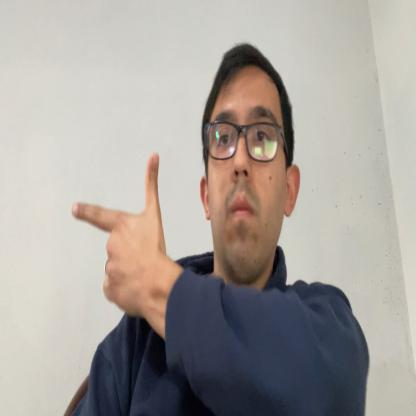G: (71, 153, 168, 317)
